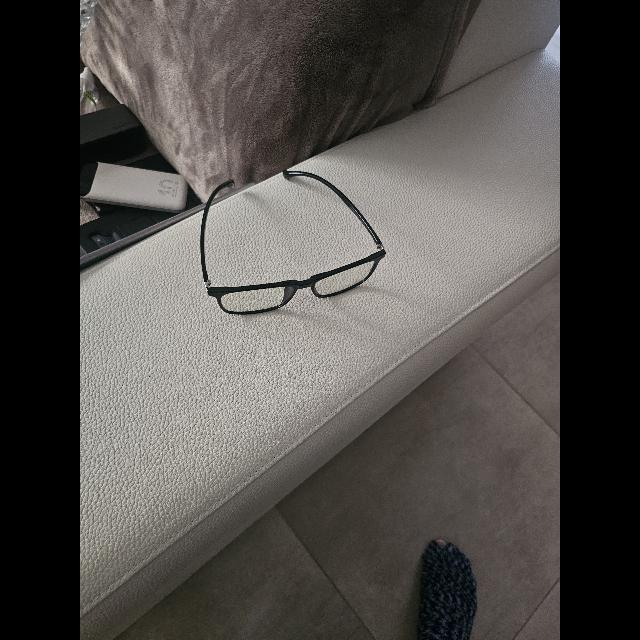glasses: (200, 170, 386, 314)
